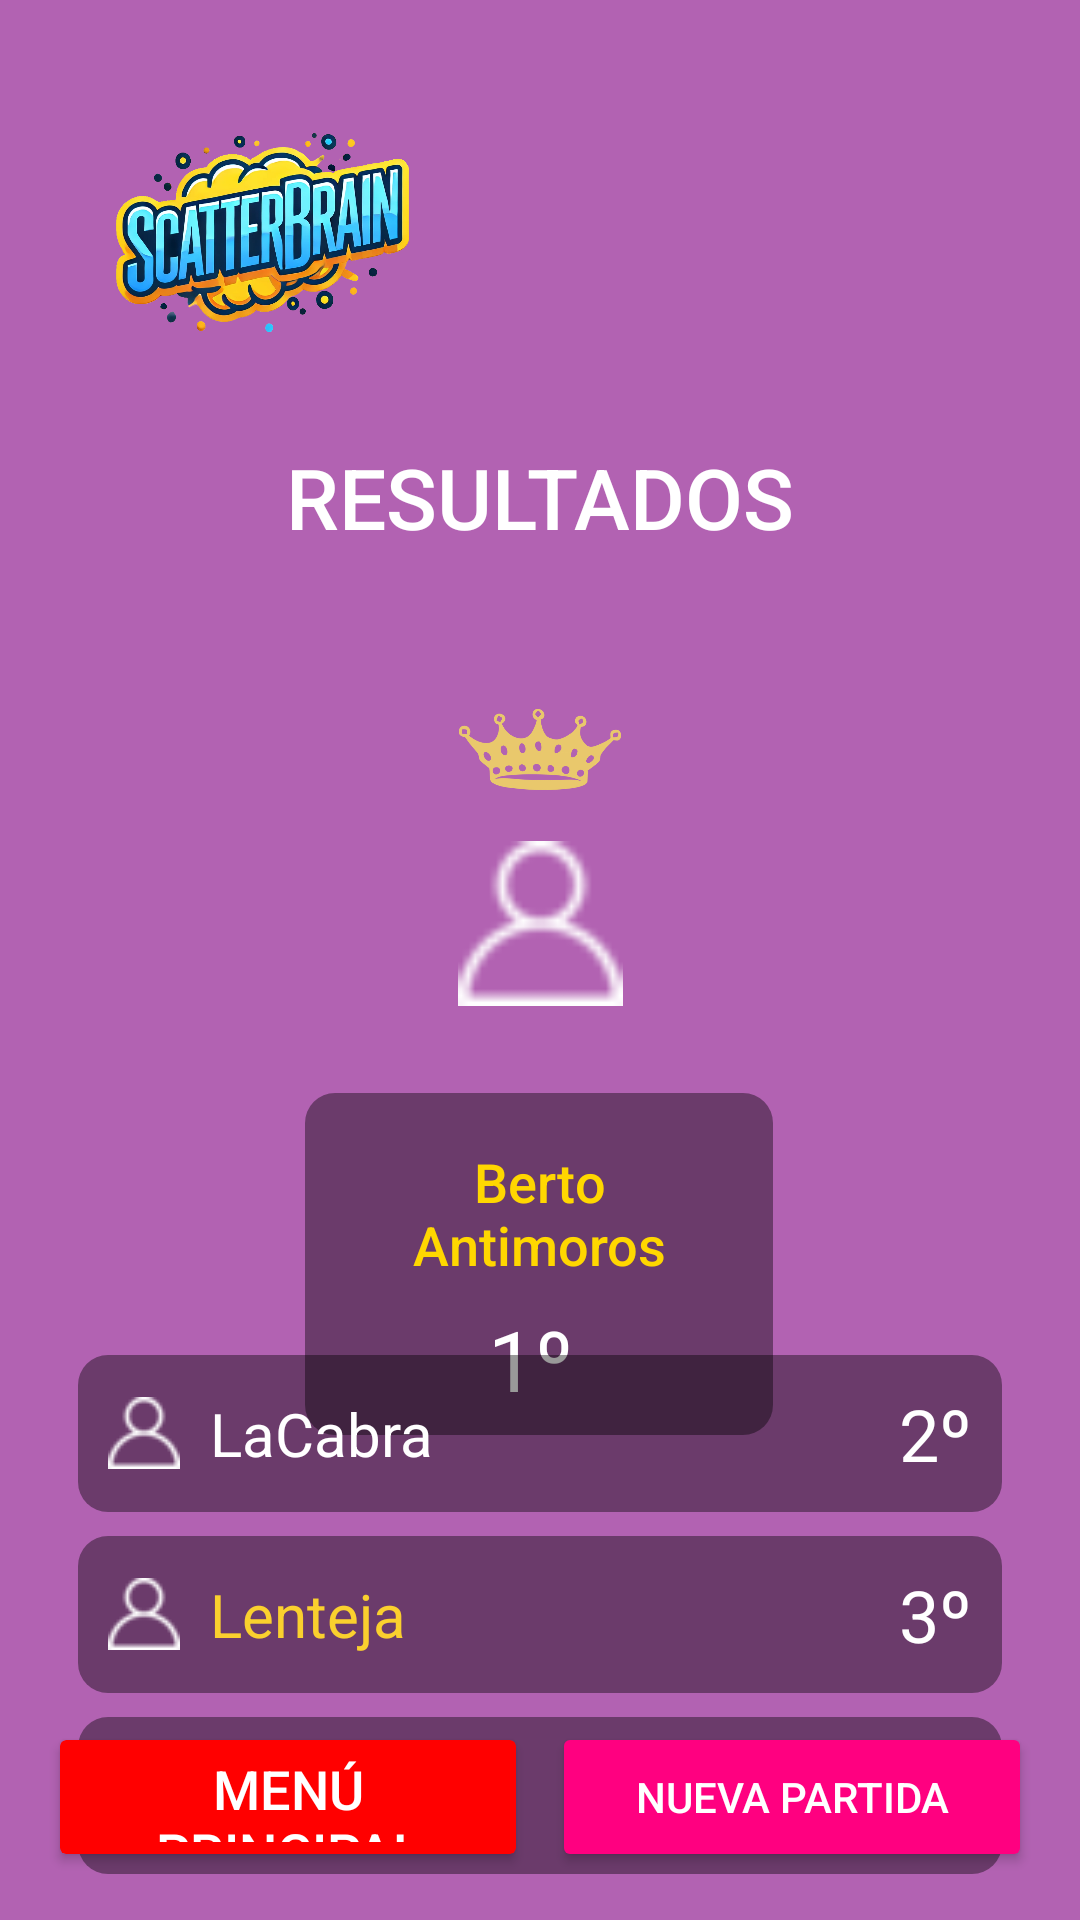

Icon click points for this 1080 × 1920 phone screenshot, format point (x, y):
crown: point (540, 749)
person: point (540, 923), point (144, 1433), point (144, 1614)
